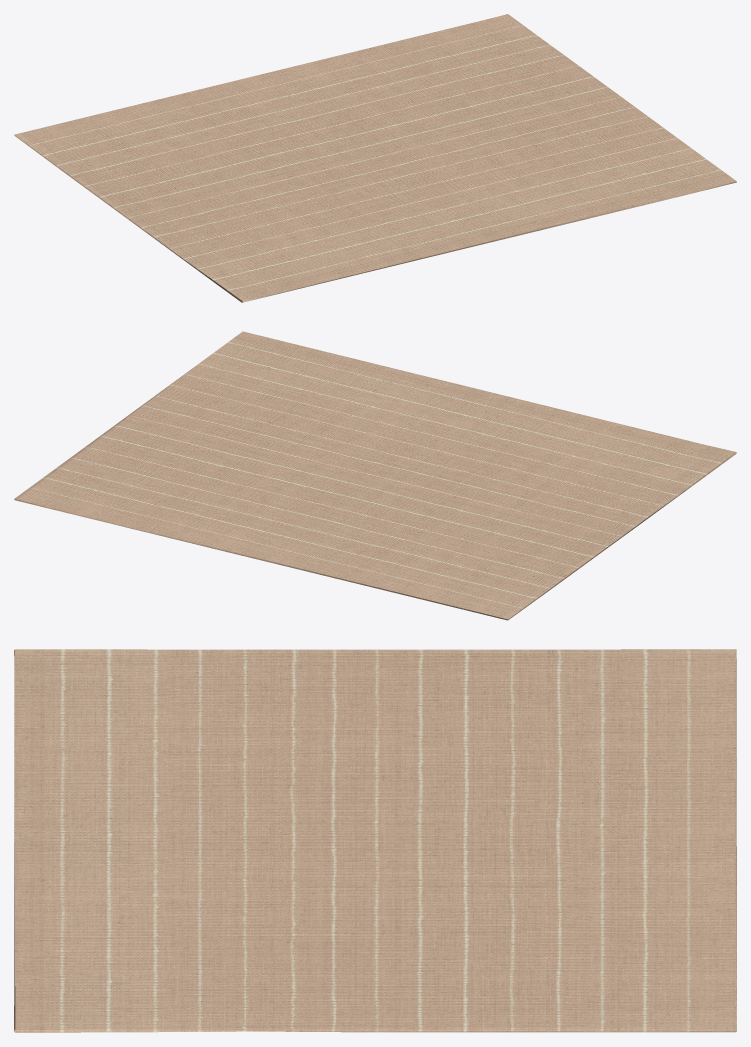
The model's file is LB-BR-RUG-02.glb.
3 views of the same model, one above another, from view 1: azimuth 30°, elevation 25°; view 2: azimuth 150°, elevation 25°; view 3: azimuth 270°, elevation 25° (orthographic). The views are drawn at different scales.
Parts seen in each view (by area): view 1: ASY_ART_90628228_S01_NV01; view 2: ASY_ART_90628228_S01_NV01; view 3: ASY_ART_90628228_S01_NV01.
Part boxes in pixels (x1,y1,x2,y2): ASY_ART_90628228_S01_NV01: (14,14,736,302); ASY_ART_90628228_S01_NV01: (14,331,736,620); ASY_ART_90628228_S01_NV01: (14,649,736,1032).
Bounding box in the file's own units: 3 × 0.0114 × 2.4.
1 material, 1 textured.
